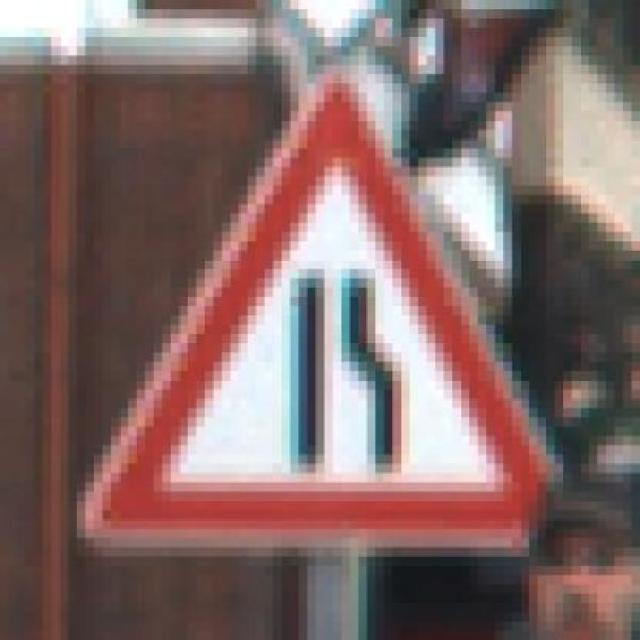-Road narrows on right: (68, 56, 581, 566)
